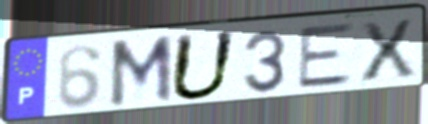3: (241, 28, 289, 95)
6: (56, 43, 104, 112)
E: (295, 20, 358, 91)
M: (107, 33, 175, 112)
U: (166, 29, 240, 103)
X: (357, 16, 419, 85)
